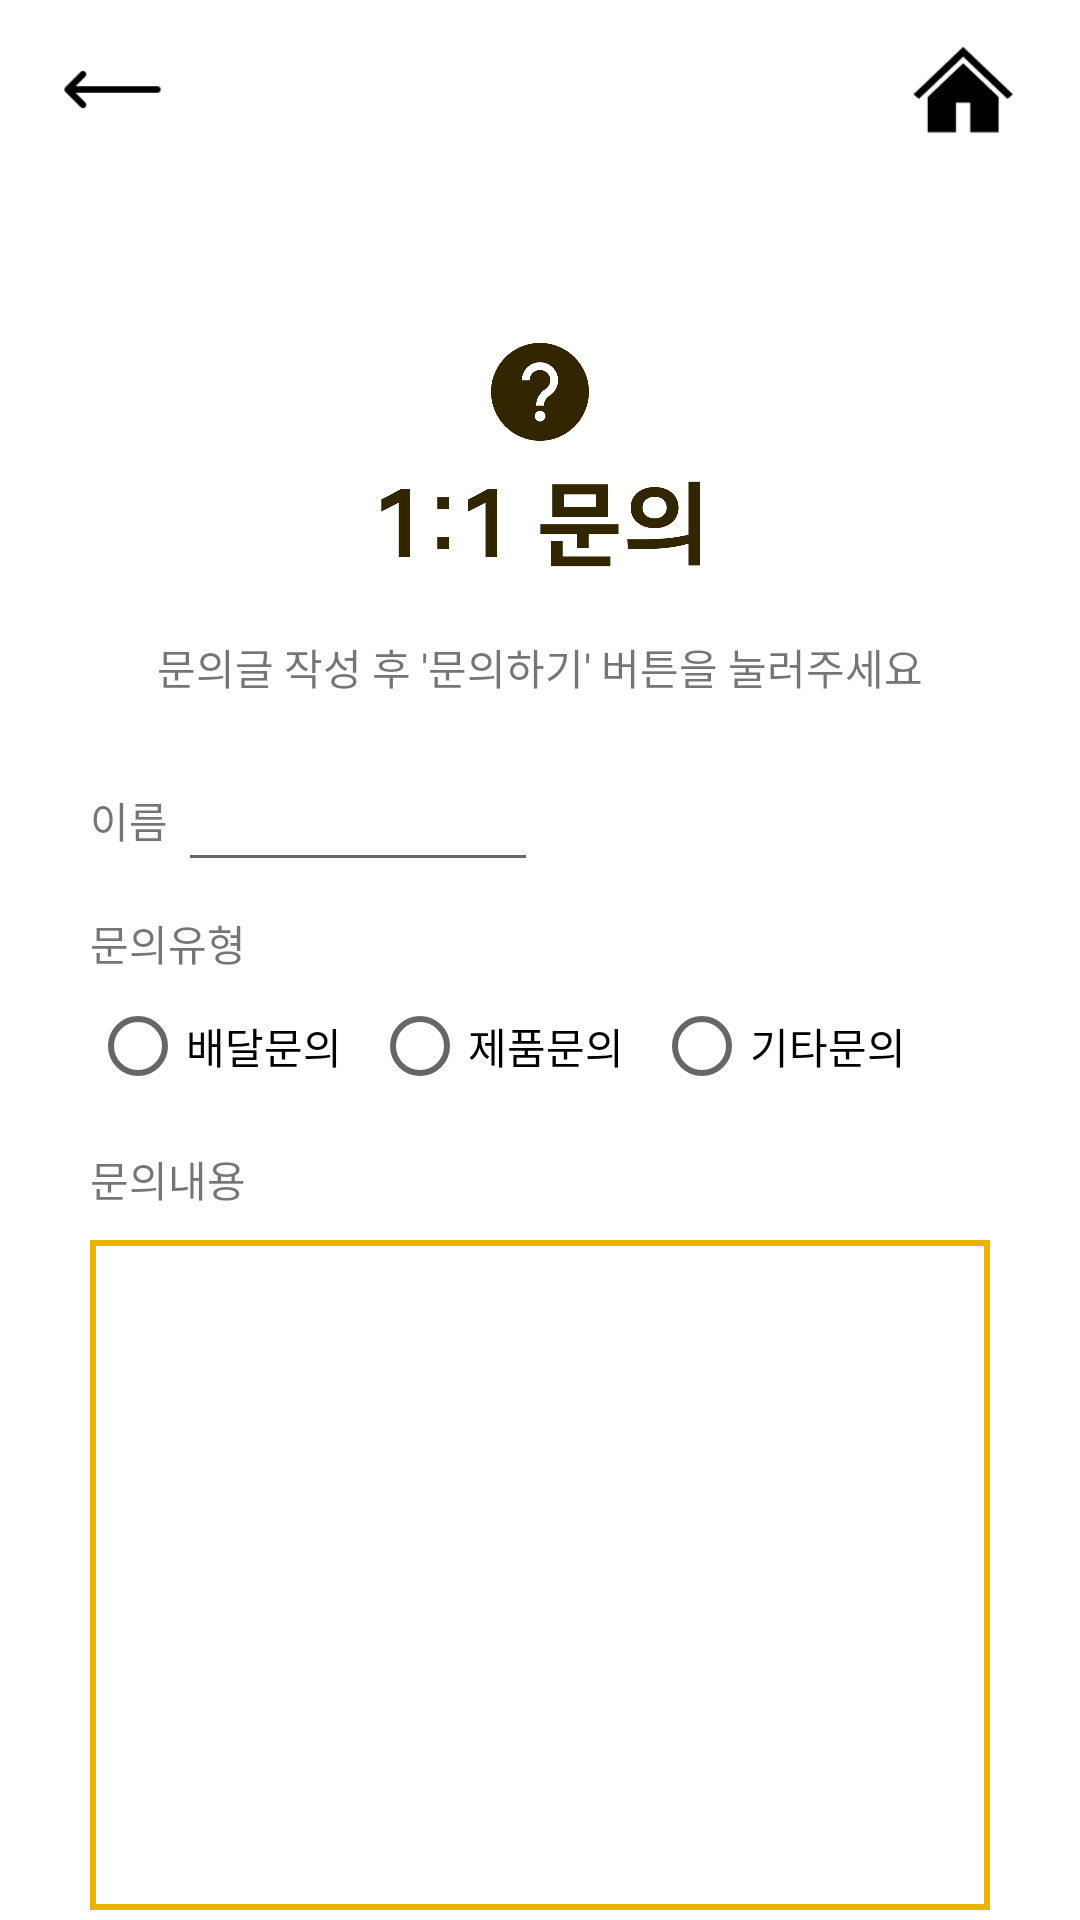

Icon bounding boxes for this 1080 x 1920 phone screenshot, format bbox(x1, y1, x2, y2):
back: bbox(64, 70, 161, 109)
home: bbox(913, 47, 1013, 133)
